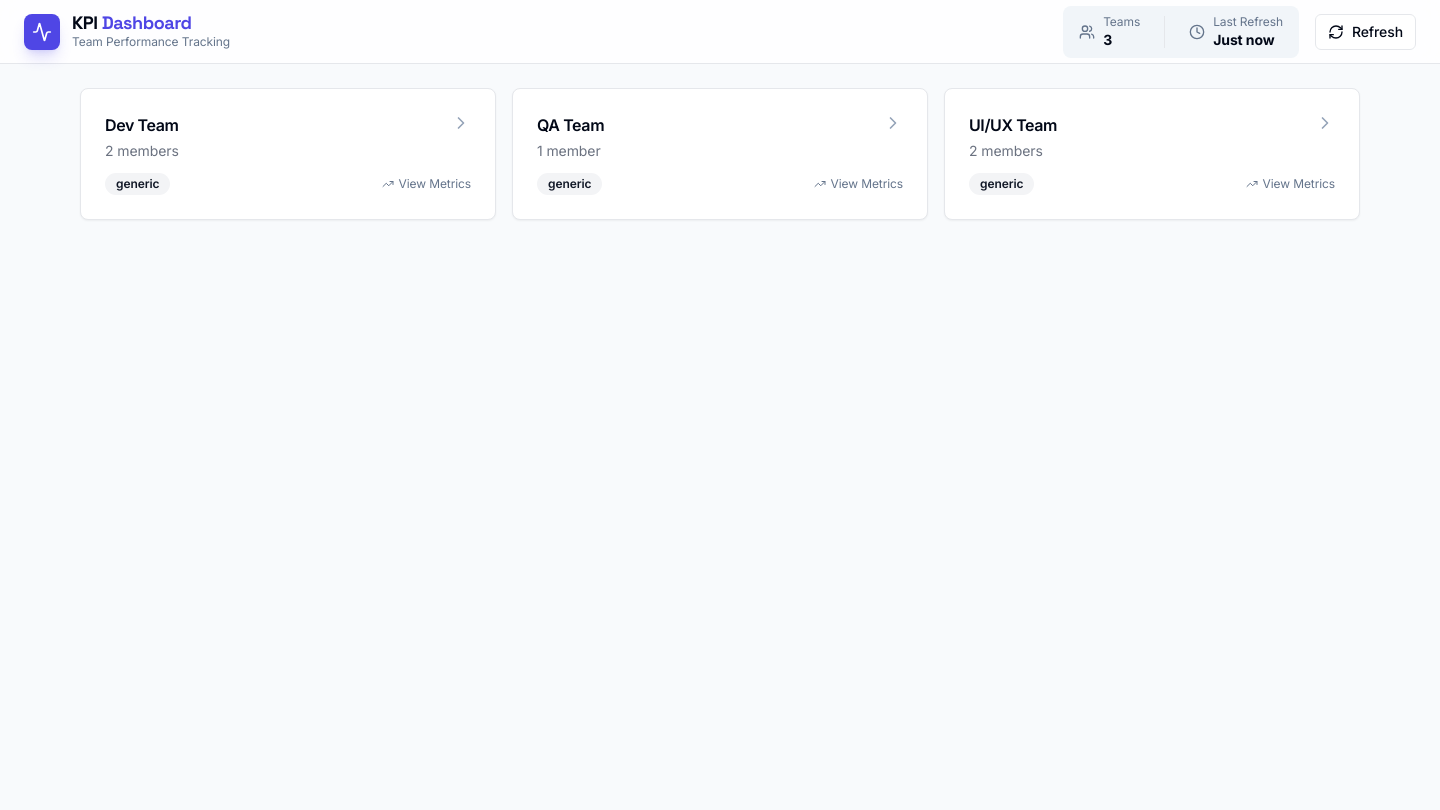
Test: KPIDashboardPage › Team Selection › displays selected team members in modal
Expected: the text "QA Team" is shown, x1=537 y1=115 x2=604 y2=135
Step 1. Click the text "QA Team" → (720,154), box x1=512 y1=88 x2=928 y2=220
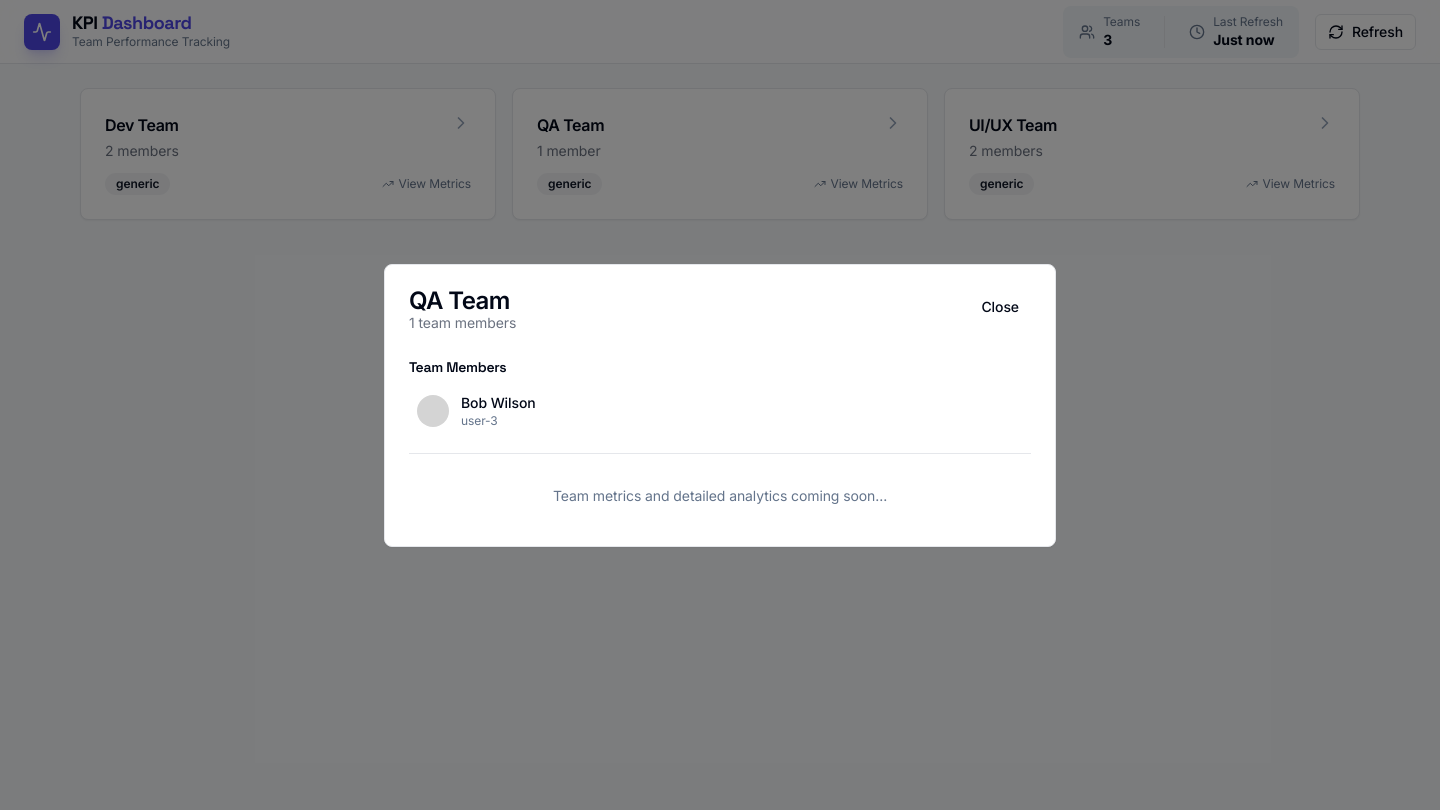
Result: the text "1 team members" is shown at x1=409 y1=312 x2=516 y2=332
Result: the text "Bob Wilson" is shown at x1=461 y1=392 x2=536 y2=412
